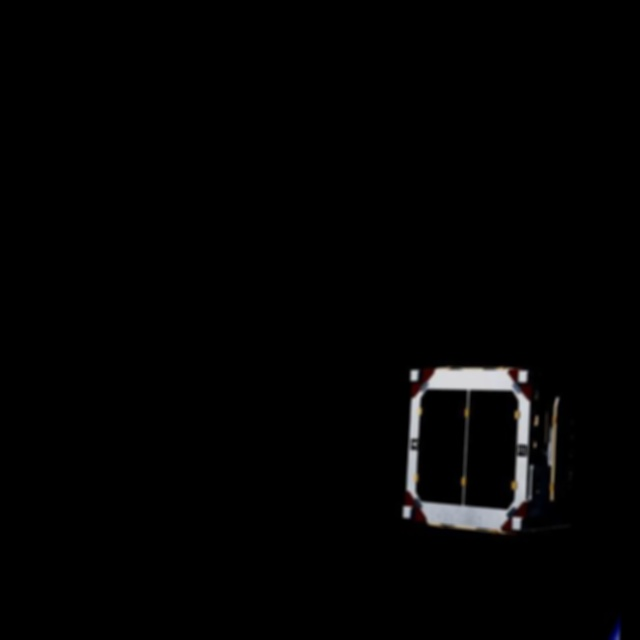medium_debris: (383, 348, 592, 544)
